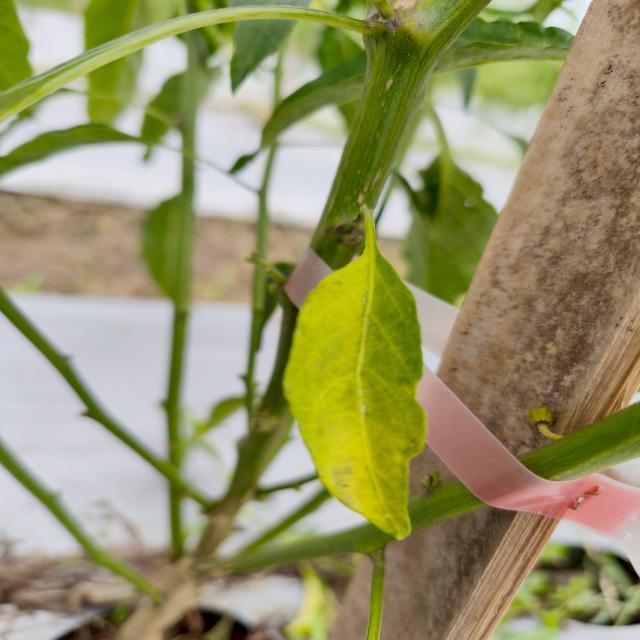Virus Kuning: (281, 243, 429, 541)
